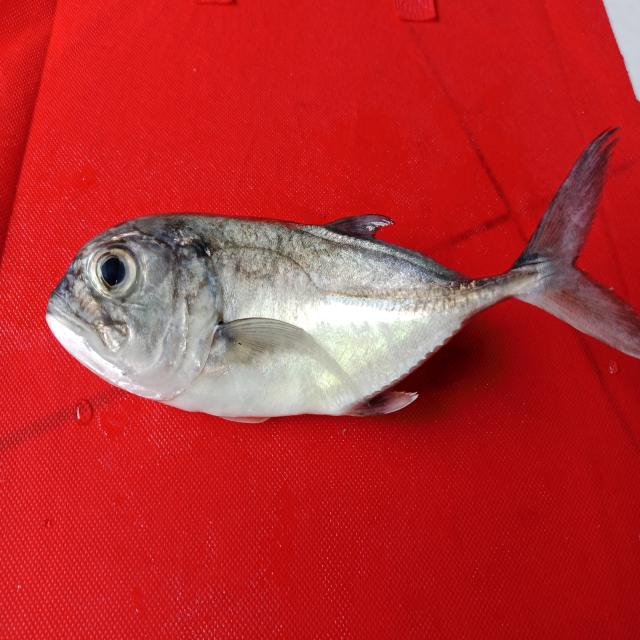ikan: (37, 118, 638, 446)
